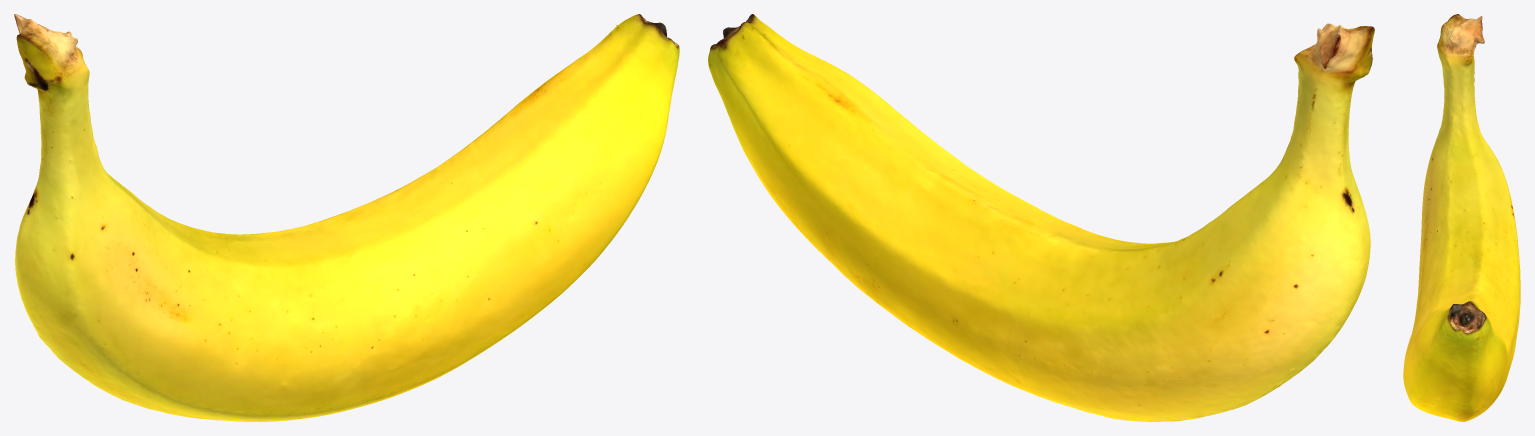
File: banana-v1-transformed.glb
The picture shows the model from 3 angles, left to right: view 1: azimuth 30°, elevation 25°; view 2: azimuth 150°, elevation 25°; view 3: azimuth 270°, elevation 25°; orthographic projection. The views are drawn at different scales.
Parts seen in each view (by area): view 1: banana; view 2: banana; view 3: banana.
Part boxes in pixels (<box>): banana: <box>14,14,679,421</box>; banana: <box>708,14,1374,421</box>; banana: <box>1403,14,1520,421</box>.
Size of the model in its own units: 6.78 by 4.44 by 1.62.
1 material, 1 textured.
